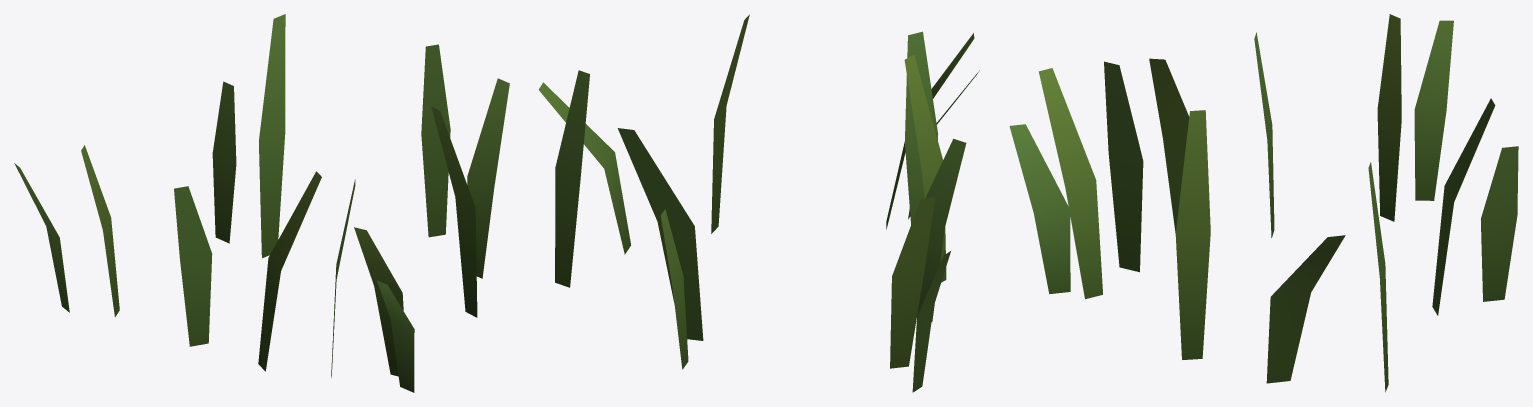
Rendered from grass_tuft_02.gltf.
3 renders of one model, left to right at view 1: azimuth 30°, elevation 25°; view 2: azimuth 150°, elevation 25°; view 3: azimuth 270°, elevation 25°, orthographic. The views are drawn at different scales.
Parts seen in each view (by area): view 1: grass_tuft_02.blades; view 2: grass_tuft_02.blades; view 3: grass_tuft_02.blades.
Part boxes in pixels (x1,y1,x2,y2): grass_tuft_02.blades: (14, 14, 509, 392); grass_tuft_02.blades: (538, 14, 979, 392); grass_tuft_02.blades: (1009, 14, 1518, 392).
Size of the model in its own units: 0.1321 by 0.0612 by 0.122.
